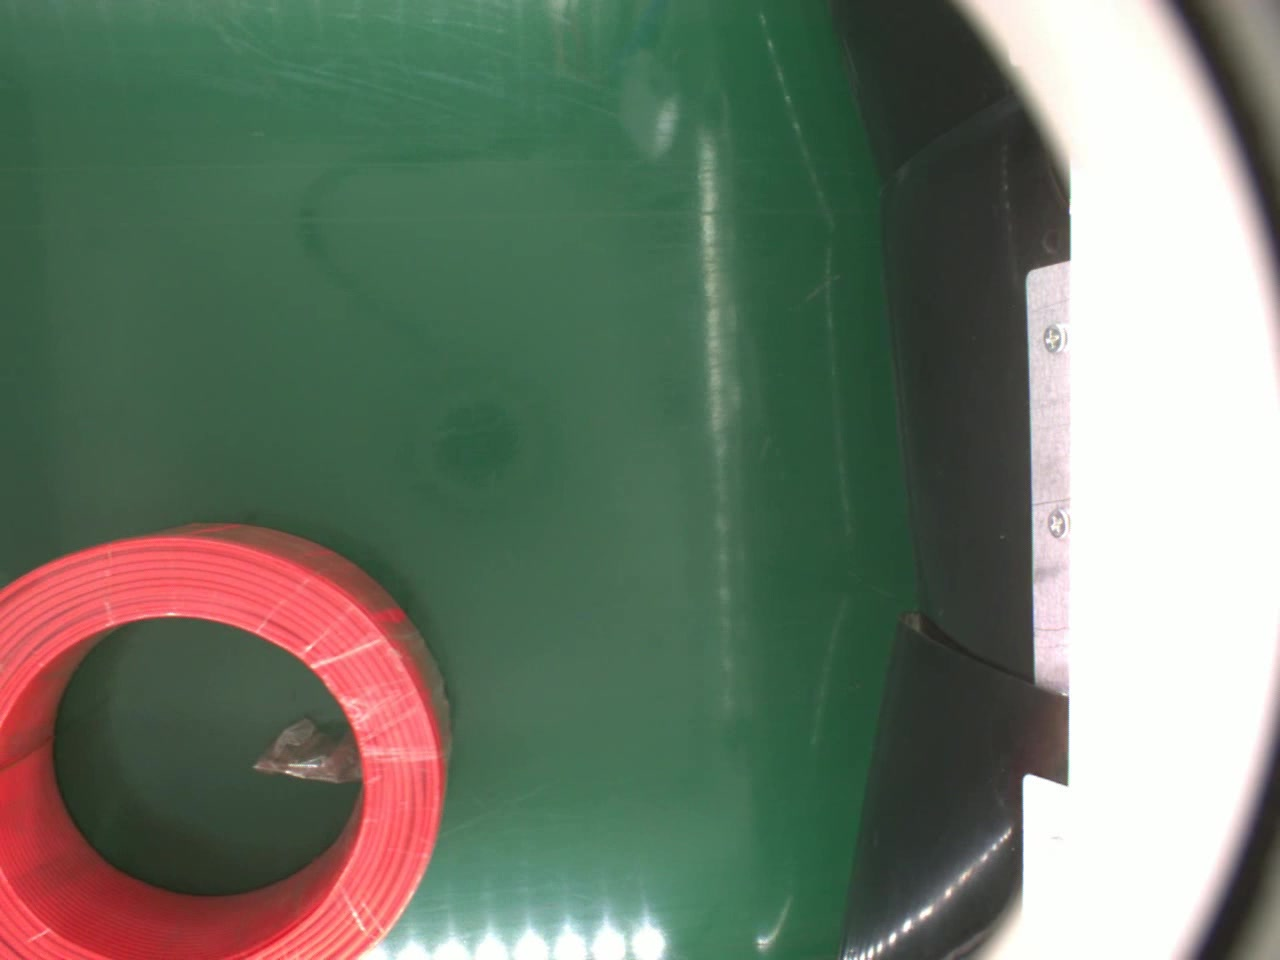red: (0, 519, 450, 960)
